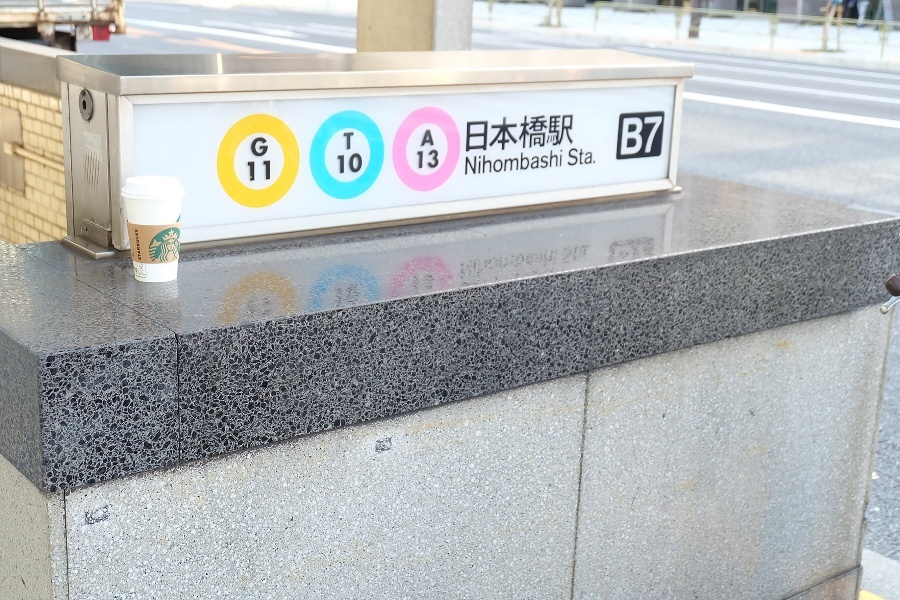text: (465, 245, 480, 289), (481, 245, 496, 289), (497, 245, 512, 289), (513, 245, 528, 289), (529, 245, 544, 289), (545, 245, 560, 289), (561, 245, 576, 289), (577, 245, 591, 289), (625, 117, 640, 157), (641, 117, 656, 157), (481, 114, 496, 152), (497, 114, 512, 152), (513, 114, 528, 152), (529, 114, 544, 152), (545, 114, 560, 152), (467, 114, 480, 152), (561, 114, 573, 152), (481, 150, 496, 176), (497, 150, 512, 176), (513, 150, 528, 176), (529, 150, 544, 176), (545, 150, 560, 176), (466, 150, 480, 176), (417, 149, 432, 169), (337, 153, 352, 173), (135, 229, 144, 261), (577, 148, 592, 166), (257, 161, 270, 181), (657, 117, 663, 157), (257, 137, 268, 157), (459, 245, 464, 289), (353, 153, 362, 173), (248, 161, 256, 181), (344, 133, 352, 150), (569, 148, 576, 166), (251, 137, 256, 157), (433, 149, 438, 169), (426, 130, 432, 146), (623, 117, 624, 157), (593, 148, 595, 166), (561, 150, 562, 176), (353, 133, 354, 150), (433, 130, 434, 146)
